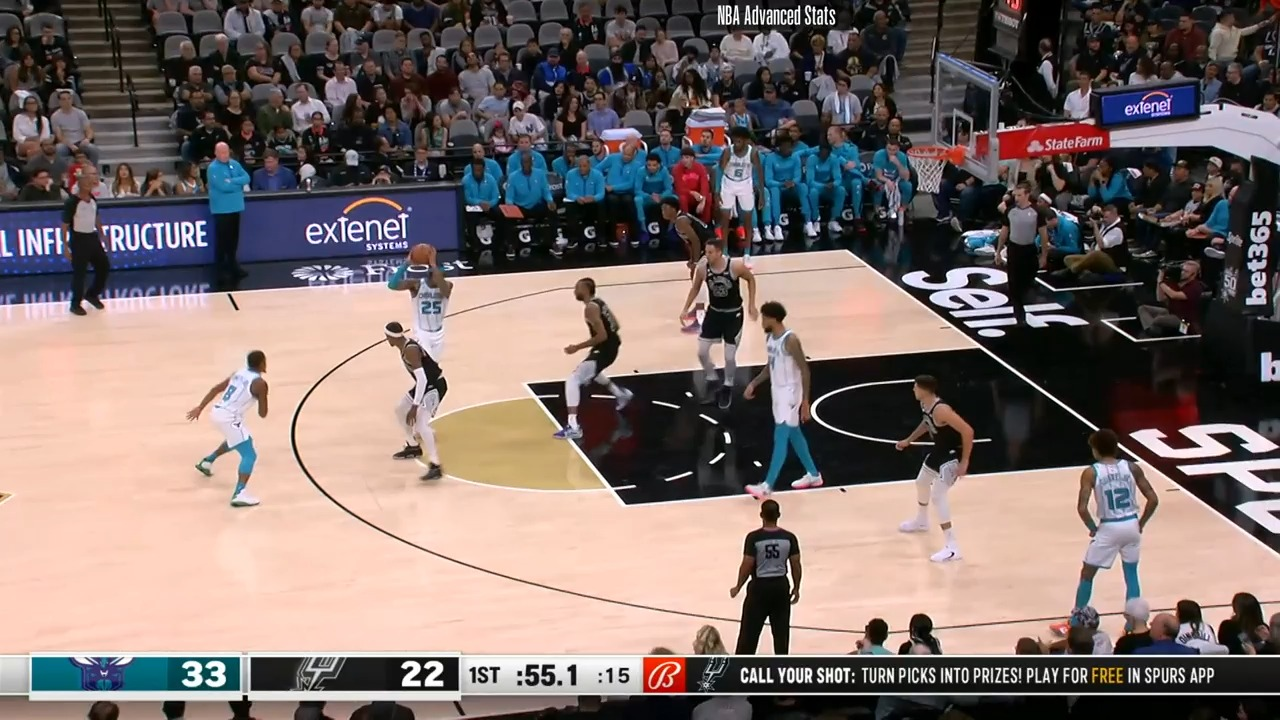net: (903, 138, 969, 196)
player: (1070, 429, 1162, 634), (901, 370, 990, 568), (733, 300, 816, 503), (181, 345, 278, 511), (553, 275, 636, 454), (680, 232, 758, 413), (377, 319, 453, 490), (708, 129, 766, 268), (659, 196, 716, 333), (399, 242, 453, 384)
referee: (723, 497, 801, 654), (993, 178, 1049, 331), (69, 167, 122, 322)
